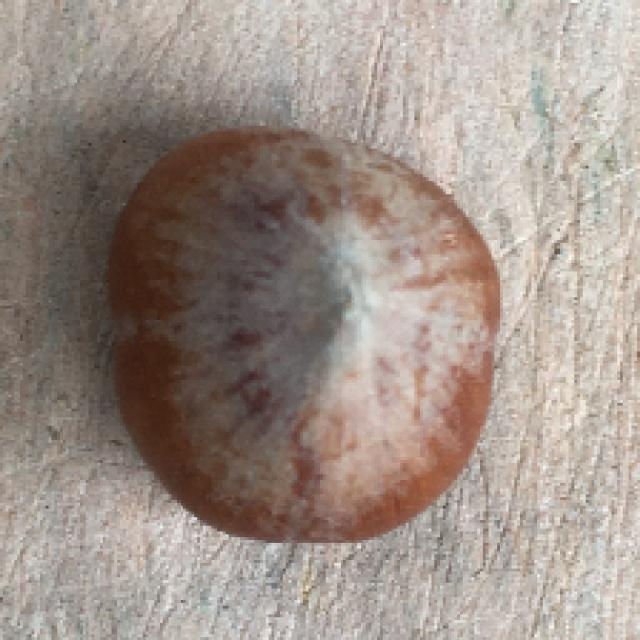qualityHazelnut: (101, 124, 509, 550)
